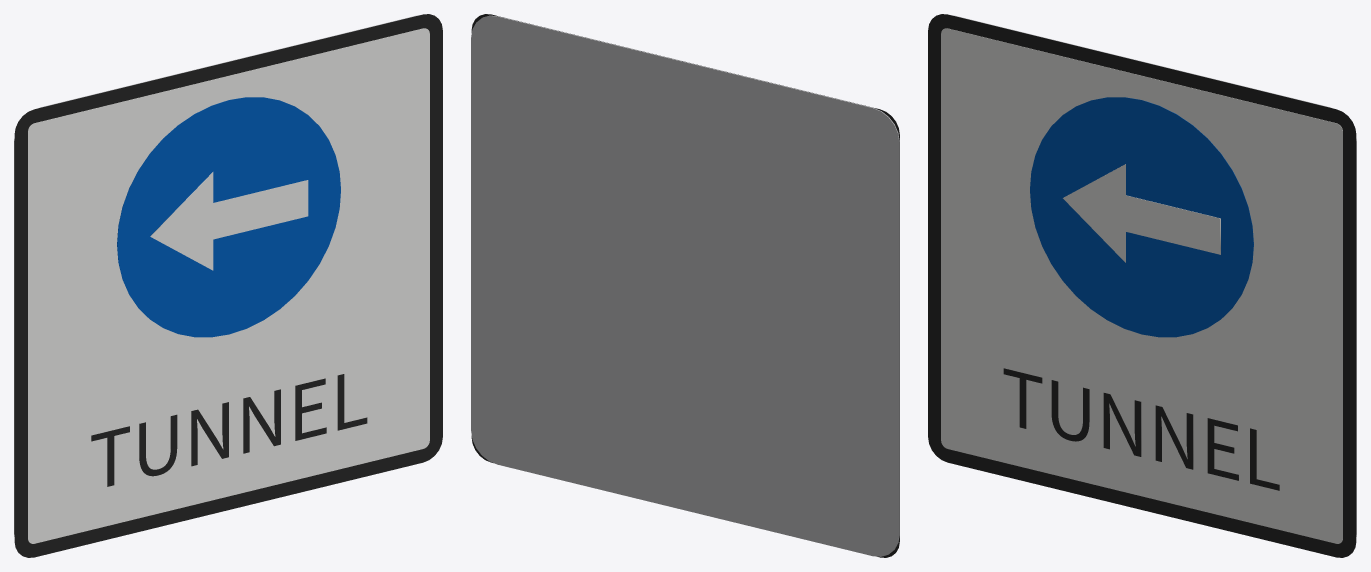
3 views of the same model, side by side, from view 1: azimuth 30°, elevation 25°; view 2: azimuth 150°, elevation 25°; view 3: azimuth 330°, elevation 25° (orthographic).
Visible parts, largest first — view 1: C117-B21d1_r01, C117-B21d1_d02, C117-B21d1_r00, C117-B21d1_p03, C117-B21d1_txt04, C117-B21d1_dos; view 2: C117-B21d1_dos, C117-B21d1_r00; view 3: C117-B21d1_r01, C117-B21d1_d02, C117-B21d1_r00, C117-B21d1_p03, C117-B21d1_txt04, C117-B21d1_dos.
Part boxes in pixels (<box>): C117-B21d1_r01: <box>28,28,429,543</box>; C117-B21d1_d02: <box>117,97,340,337</box>; C117-B21d1_r00: <box>14,14,442,557</box>; C117-B21d1_p03: <box>150,172,308,270</box>; C117-B21d1_txt04: <box>91,374,367,486</box>; C117-B21d1_dos: <box>14,15,416,536</box>; C117-B21d1_dos: <box>471,15,899,556</box>; C117-B21d1_r00: <box>471,14,899,557</box>; C117-B21d1_r01: <box>941,28,1342,543</box>; C117-B21d1_d02: <box>1030,97,1253,337</box>; C117-B21d1_r00: <box>928,14,1356,557</box>; C117-B21d1_p03: <box>1063,164,1220,262</box>; C117-B21d1_txt04: <box>1003,368,1279,490</box>; C117-B21d1_dos: <box>954,15,1356,536</box>.
Bounding box in the file's own units: 0.65 × 0.65 × 0.0033.
